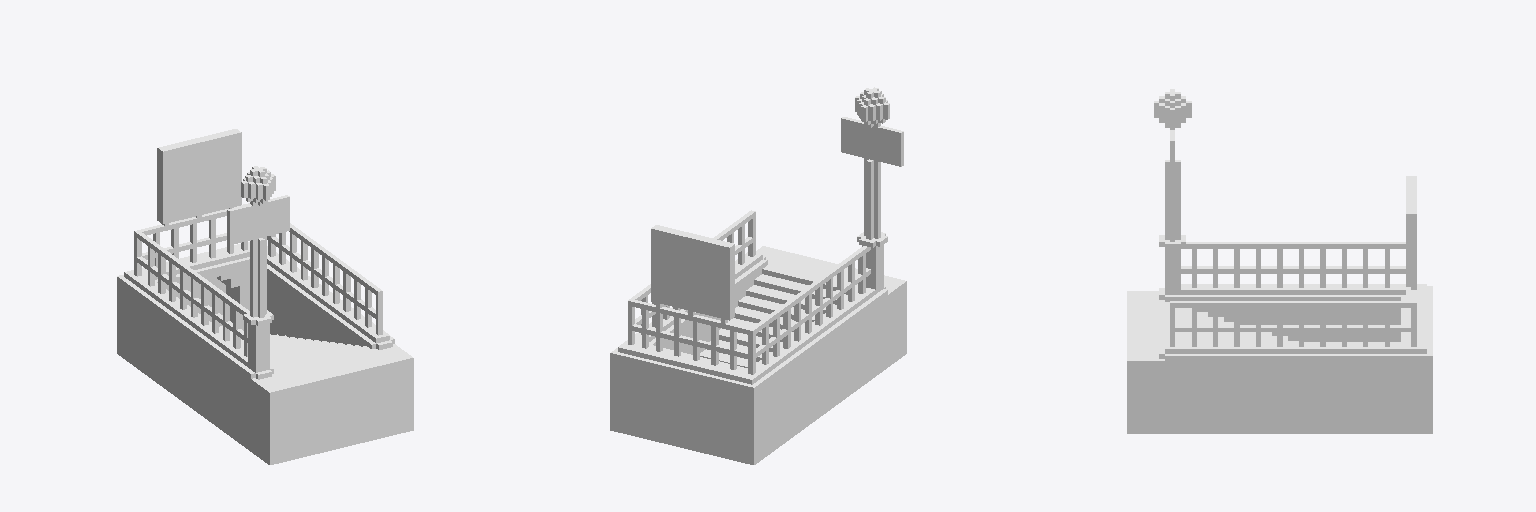
The model's file is Metro.obj.
3 renders of one model, left to right at view 1: azimuth 30°, elevation 25°; view 2: azimuth 150°, elevation 25°; view 3: azimuth 270°, elevation 25°, orthographic.
Visible parts, largest first — view 1: object 1; view 2: object 1; view 3: object 1.
Boxes of the visible parts, x1=… form: object 1: x1=117, y1=129, x2=413, y2=464; object 1: x1=610, y1=87, x2=906, y2=464; object 1: x1=1127, y1=89, x2=1432, y2=433.
Bounding box in the file's own units: 3.5 × 5.7 × 5.7.